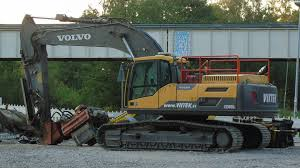excavator: (20, 12, 278, 154)
